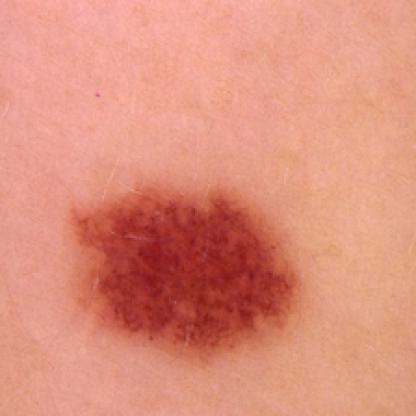benign: (76, 171, 310, 351)
